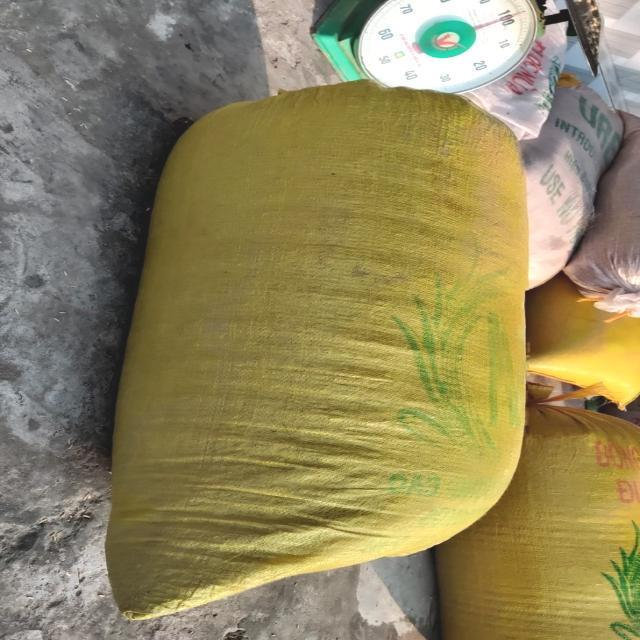gunny_bag: (105, 80, 528, 620), (437, 404, 640, 640)
